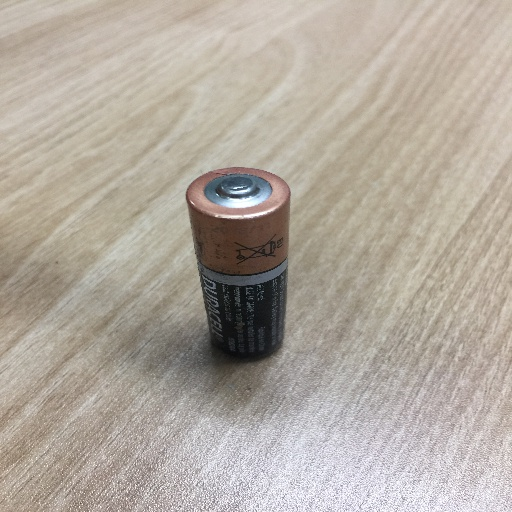Battery_0: (183, 157, 300, 373)
